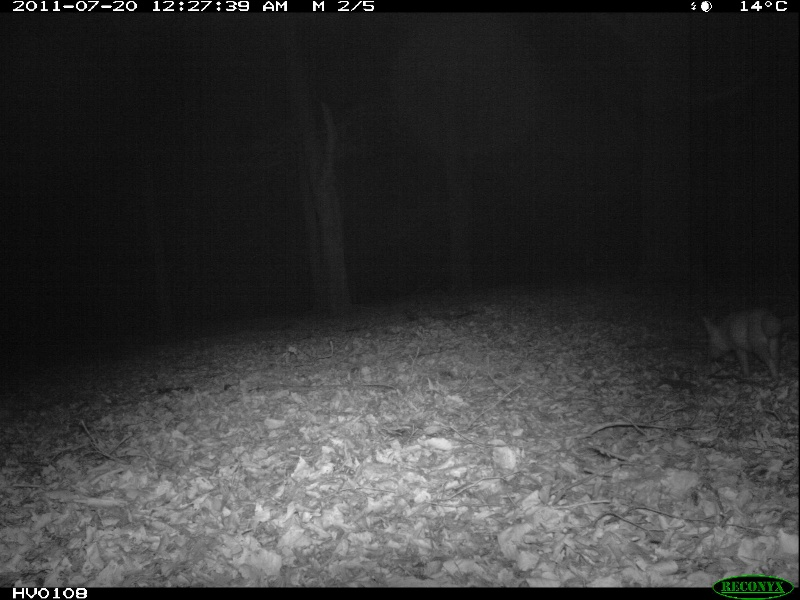fox: (700, 308, 790, 402)
